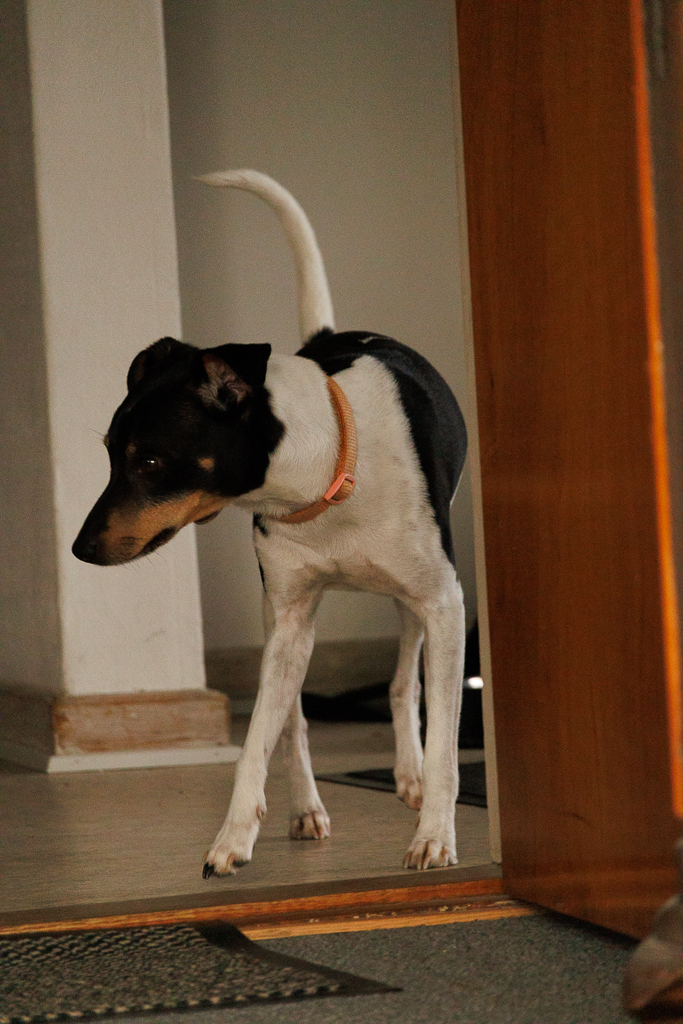Dog: (53, 151, 488, 903)
